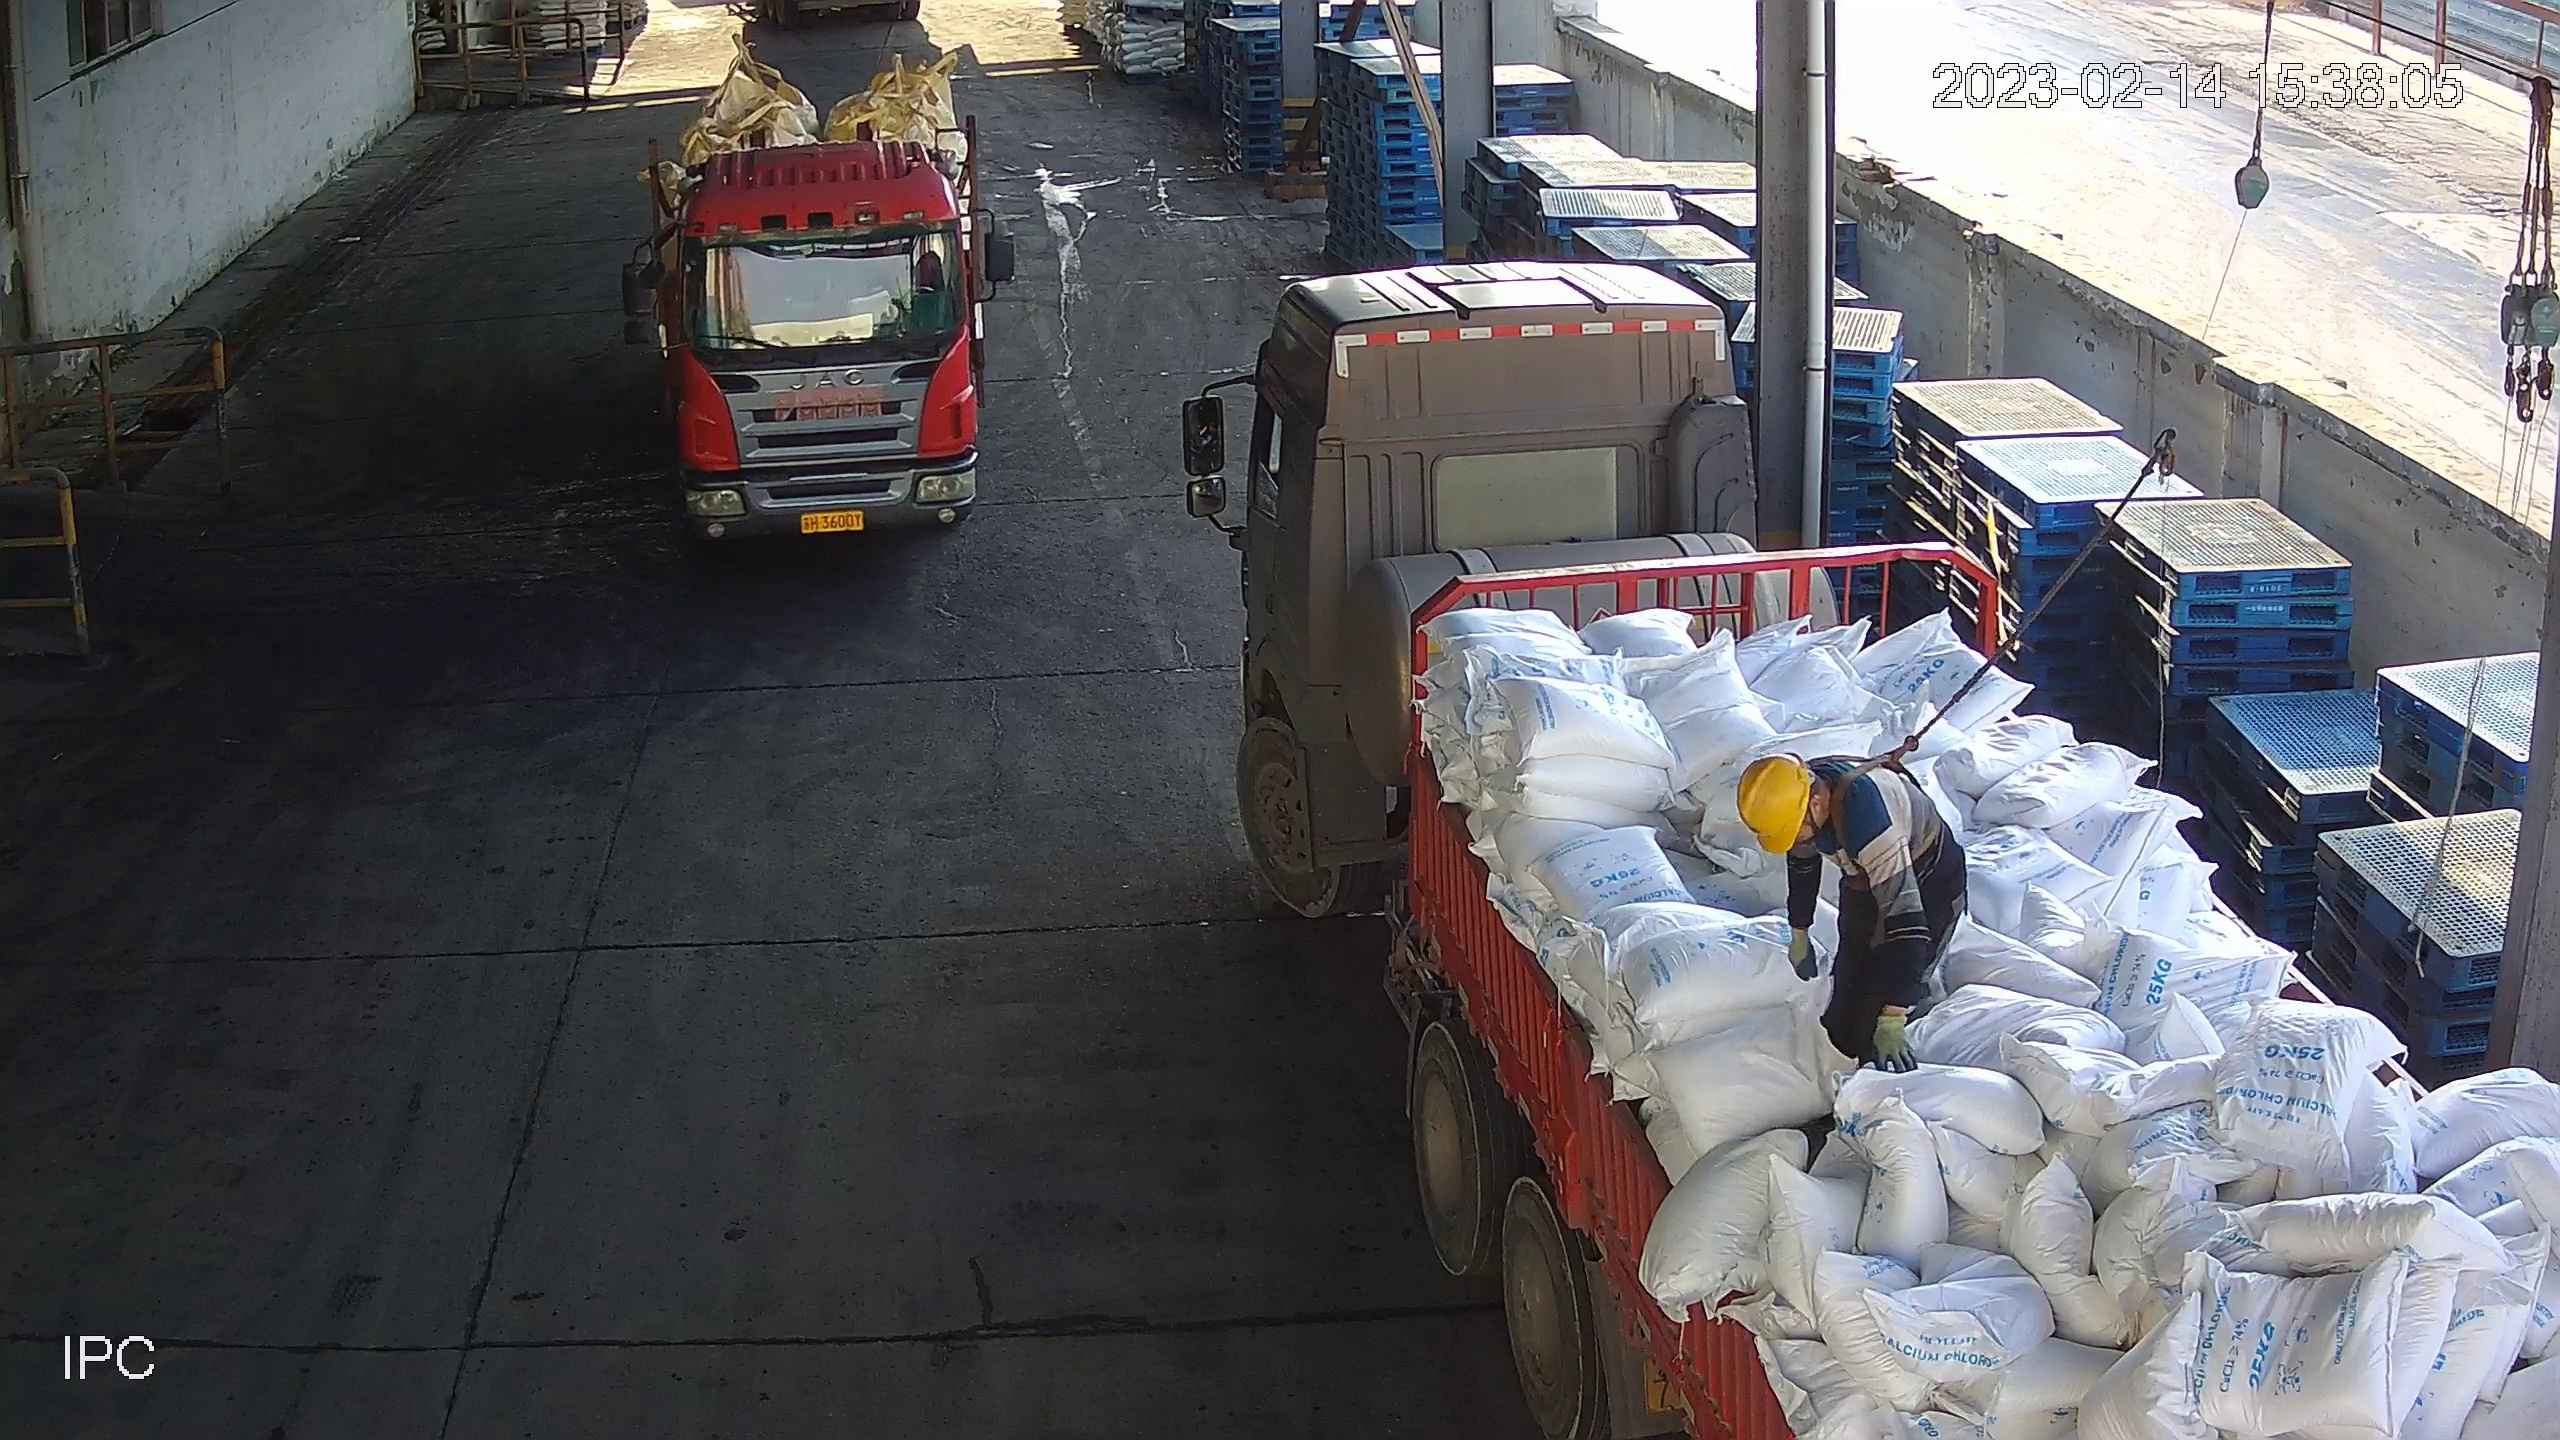belt: (1825, 745, 1936, 871)
head: (1740, 754, 1918, 897)
helmet: (1735, 758, 1820, 867)
people: (1735, 751, 1994, 1086)
truck: (1186, 266, 2560, 1440), (627, 51, 1007, 564)
